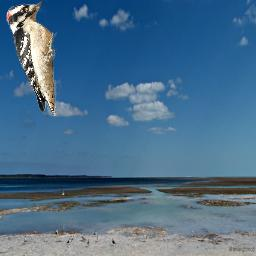Woodpecker: (6, 1, 57, 116)
